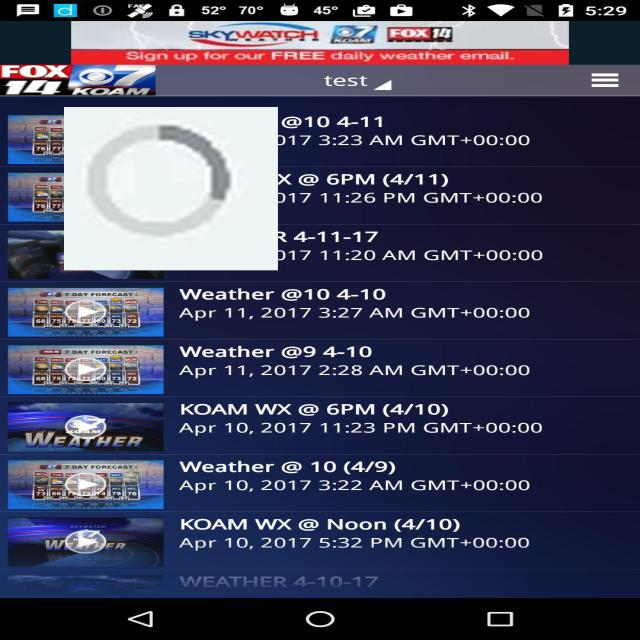misdirection: (64, 107, 278, 270)
